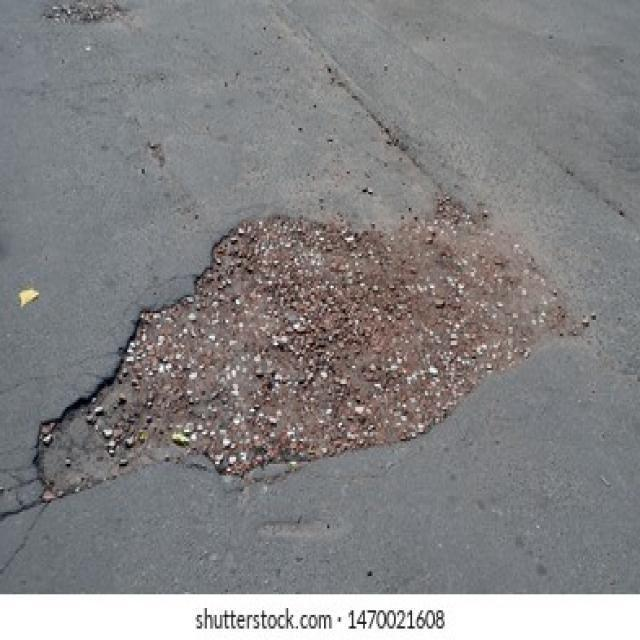Buraco: (26, 181, 588, 510)
